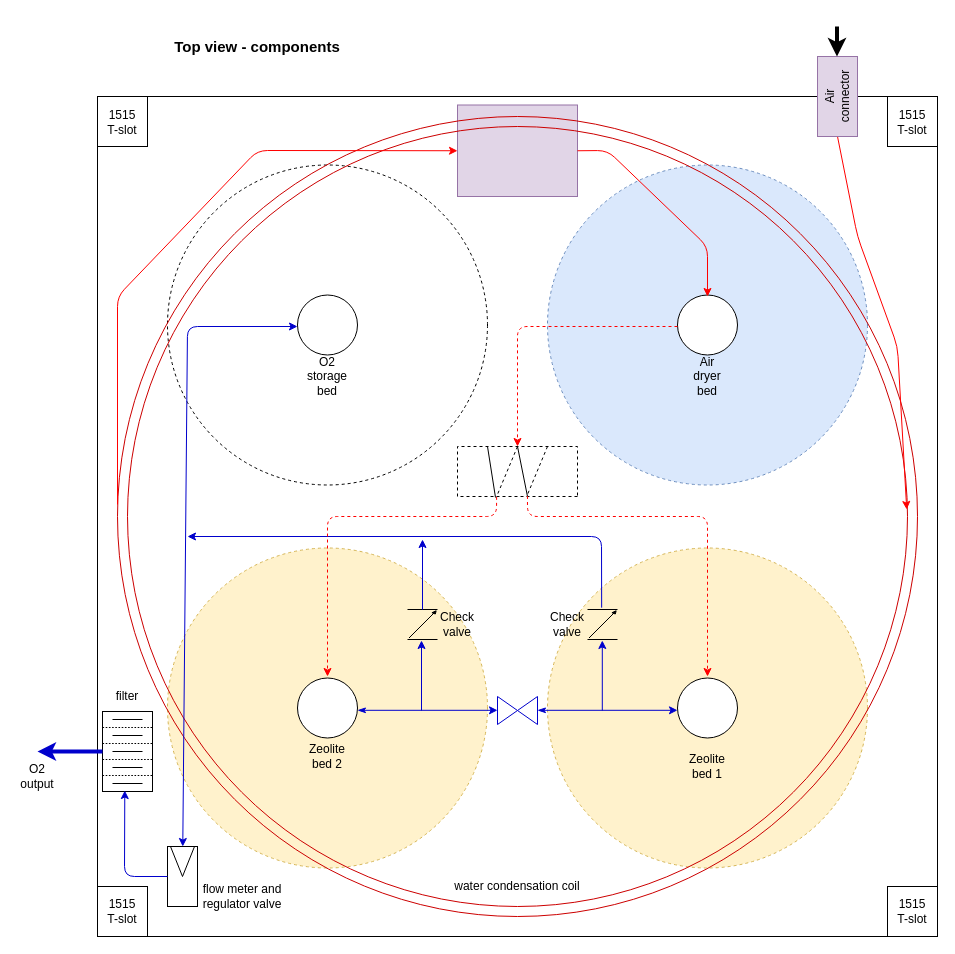
Image size: 955x954. Some labels were removed from this diagram. The box of each missing label's shape, as (x1, y1, x2, y2) in pixels:
2-way valve: (496, 696, 538, 724)
Air filter and water separator: (456, 104, 578, 196)
